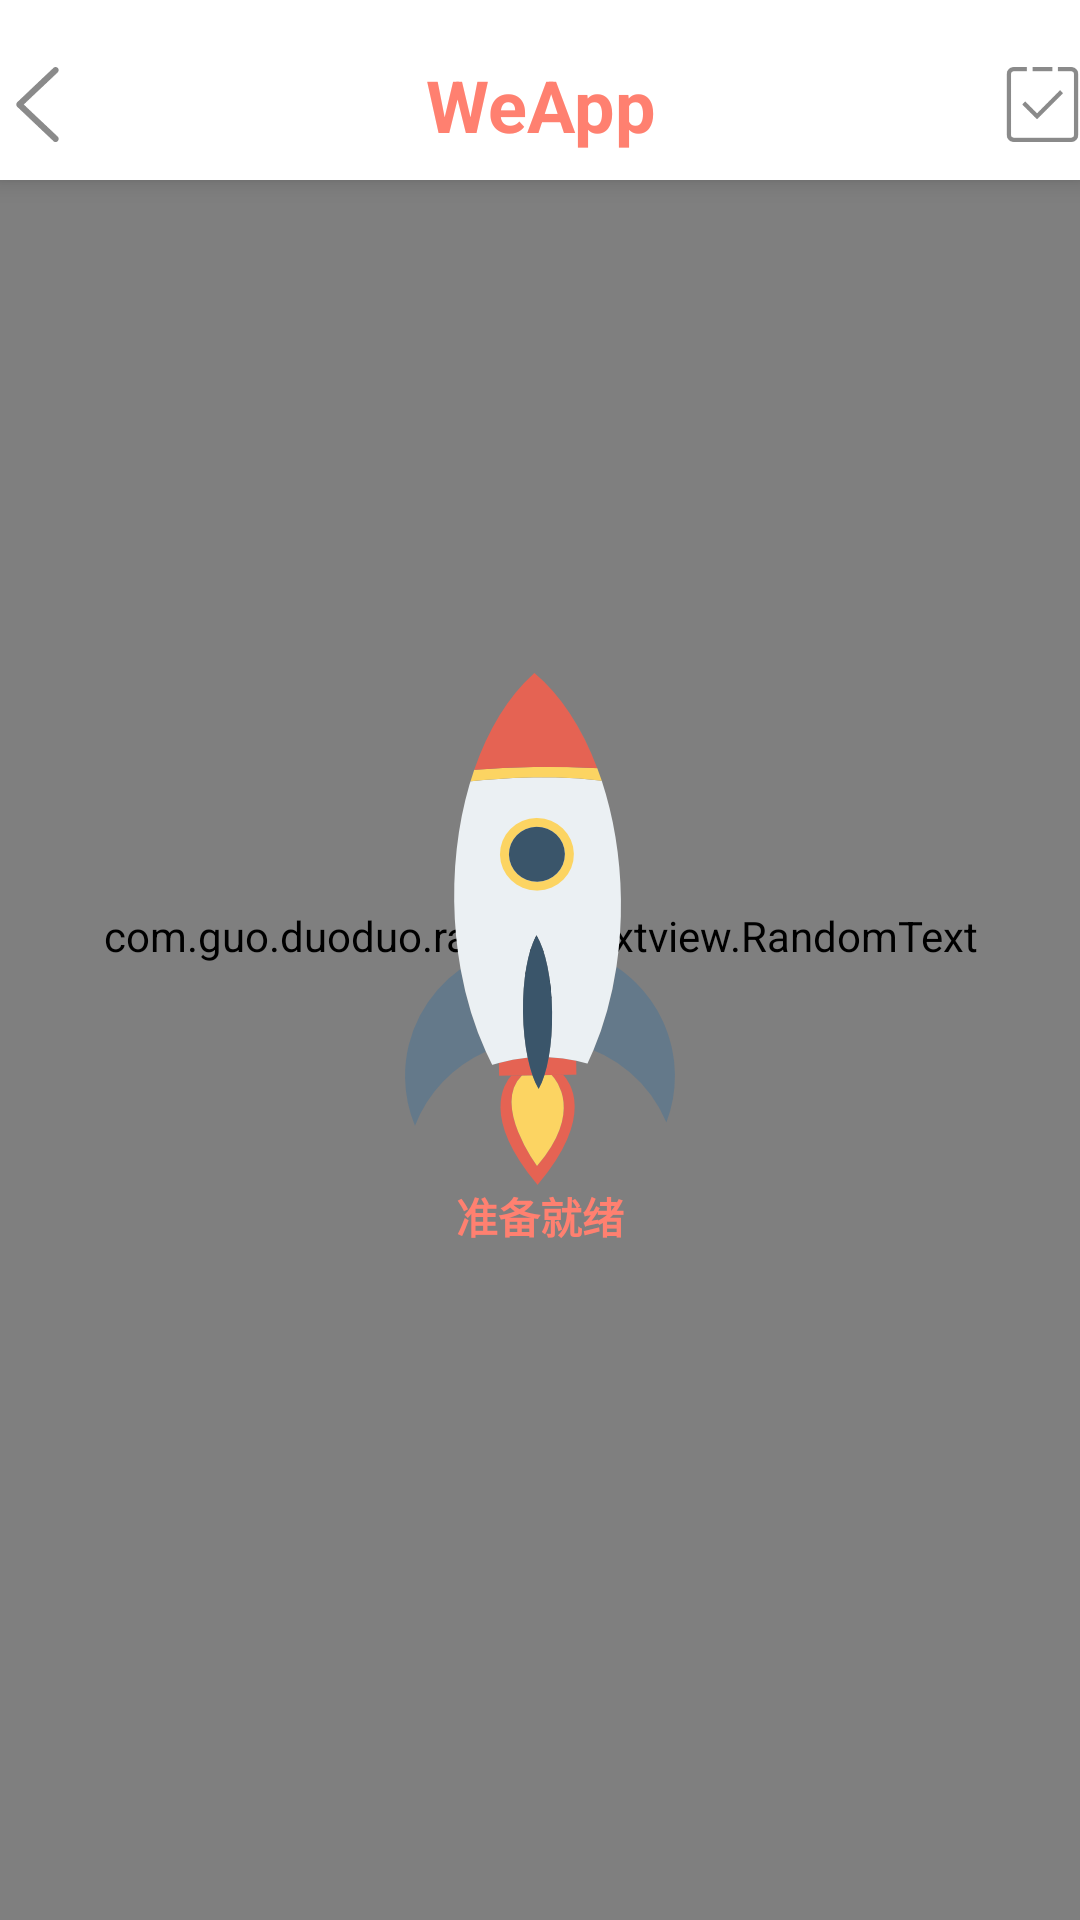

Screen size 1080*1920. Icon name, then its box in pixels as [x1, y1, x2, y2]:
arrow: [16, 67, 59, 142]
submit: [1007, 67, 1078, 142]
